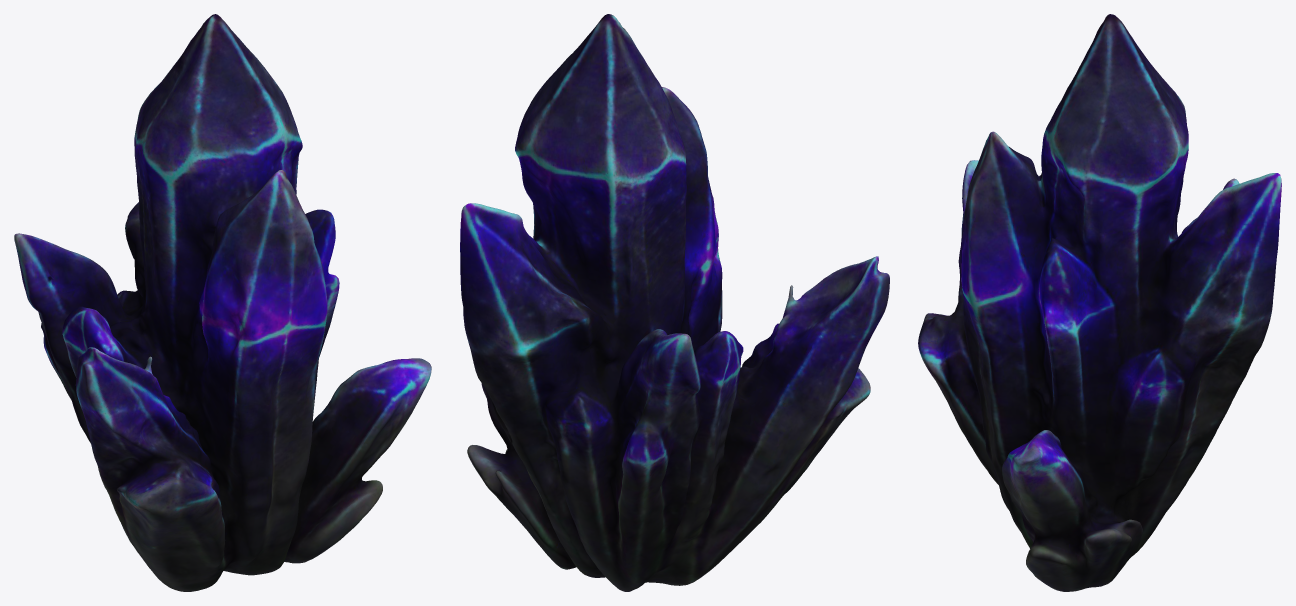
The model's file is 5d065da96bef_Glowing_crystal.fbx.
3 renders of one model, left to right at view 1: azimuth 30°, elevation 25°; view 2: azimuth 150°, elevation 25°; view 3: azimuth 270°, elevation 25°, orthographic. The views are drawn at different scales.
Parts seen in each view (by area): view 1: high_poly; view 2: high_poly; view 3: high_poly.
Part boxes in pixels (box(x1,y1,x2,y2)): high_poly: box(14, 14, 431, 591); high_poly: box(460, 14, 889, 591); high_poly: box(918, 14, 1281, 591).
Bounding box in the file's own units: 71.05 × 100 × 59.88.
